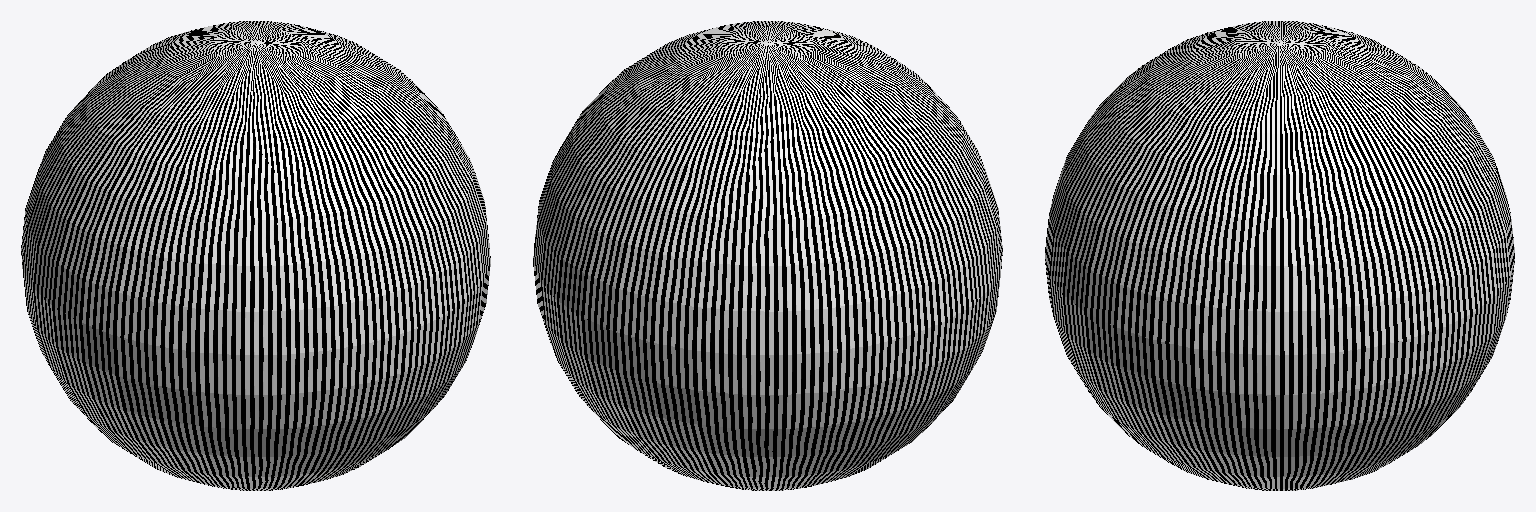
The picture shows the model from 3 angles: view 1: azimuth 30°, elevation 25°; view 2: azimuth 150°, elevation 25°; view 3: azimuth 270°, elevation 25°; orthographic projection.
Visible parts, largest first — view 1: Sphere; view 2: Sphere; view 3: Sphere.
Boxes of the visible parts, box(x1,y1,x2,y2) form: Sphere: box(21, 21, 490, 490); Sphere: box(533, 21, 1002, 490); Sphere: box(1045, 21, 1514, 490).
Bounding box in the file's own units: 3.28 × 3.28 × 3.28.
1 materials, 1 textured.